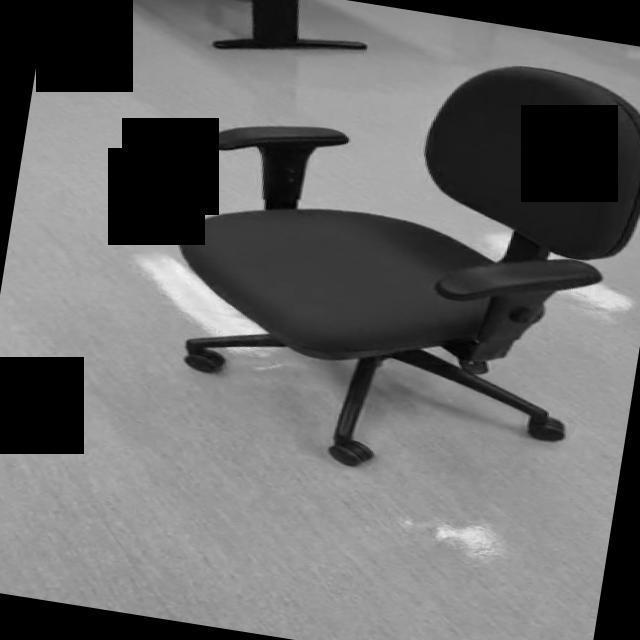chair: (145, 15, 640, 506)
